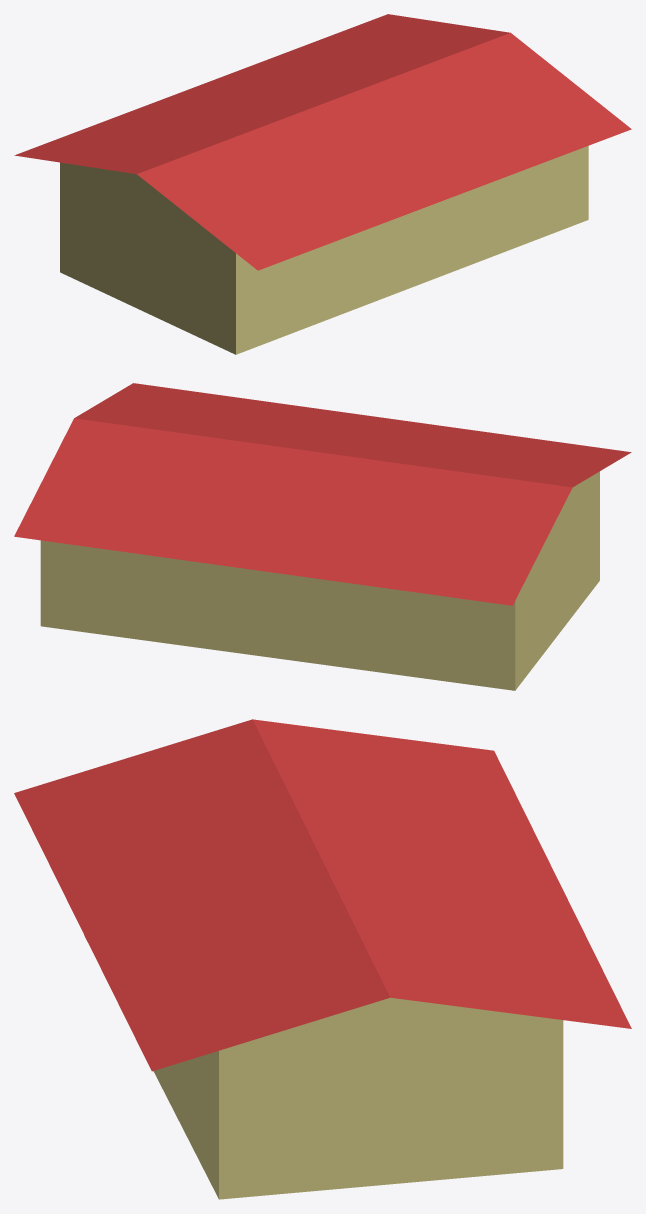
3 renders of one model, top to bottom at view 1: azimuth 30°, elevation 25°; view 2: azimuth 150°, elevation 25°; view 3: azimuth 270°, elevation 25°, orthographic. The views are drawn at different scales.
Size of the model in its own units: 43.35 by 35.29 by 12.14.
